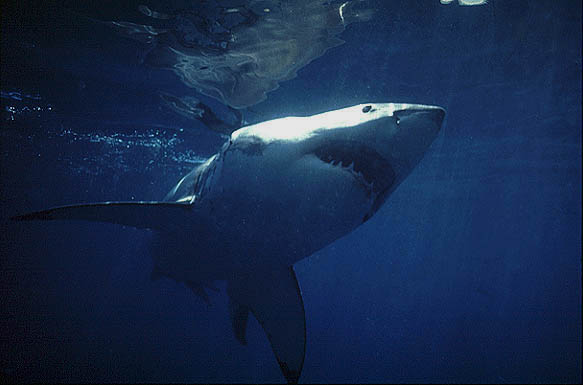Carcharodon_carcharias: (8, 75, 468, 385)
